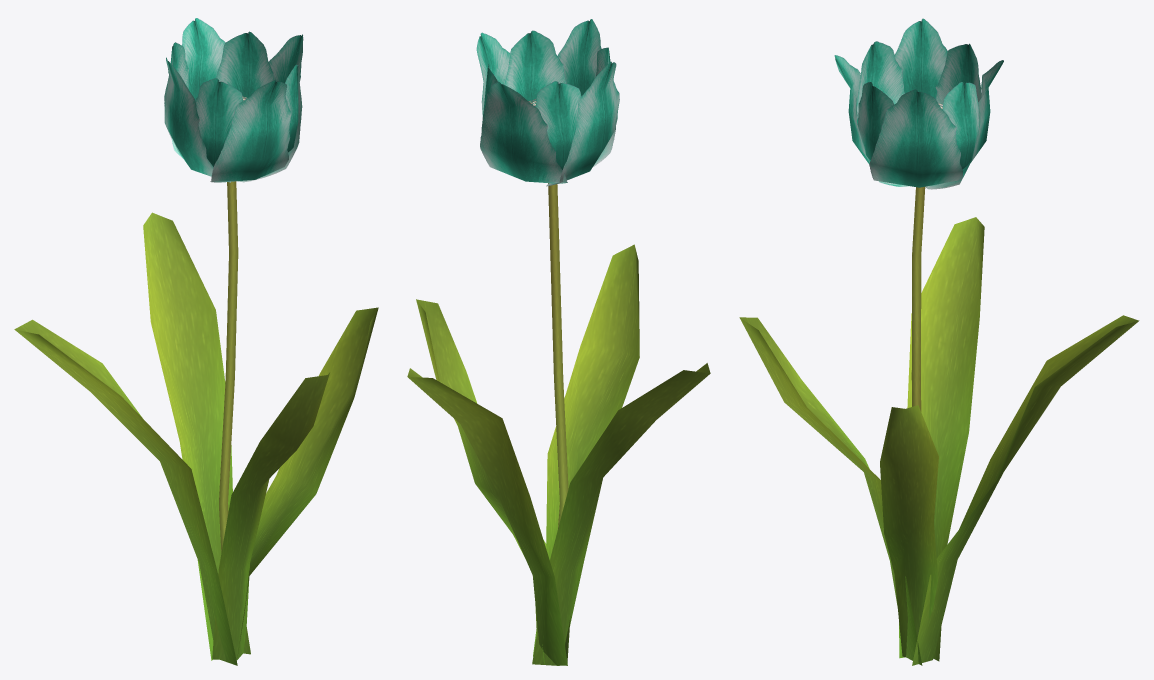
Rendered from m_flower20.fbx.
3 renders of one model, left to right at view 1: azimuth 30°, elevation 25°; view 2: azimuth 150°, elevation 25°; view 3: azimuth 270°, elevation 25°, orthographic.
Visible parts, largest first — view 1: mesh_flower20; view 2: mesh_flower20; view 3: mesh_flower20.
Part boxes in pixels (bbox=[...]): mesh_flower20: bbox=[14, 18, 378, 665]; mesh_flower20: bbox=[407, 19, 710, 665]; mesh_flower20: bbox=[739, 18, 1139, 665].
Size of the model in its own units: 0.2341 by 0.4208 by 0.2478.
Materials: 1 (1 with a texture image).
